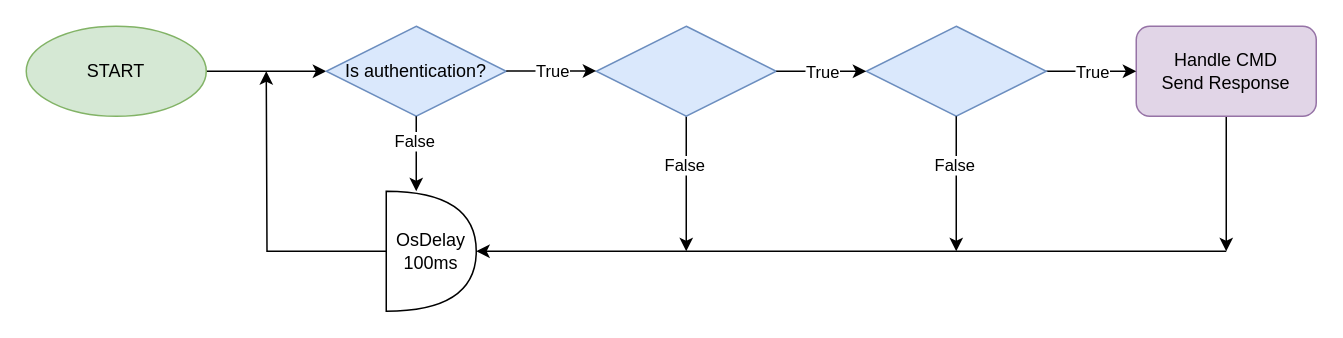
Some shapes in this 1343 by 338 pixel diagram are drawn without their labels. The centre of each missing label's shape, as x and y in pixels:
Is receive data?: the point at 685,70
Is valid CMD?: the point at 955,70
